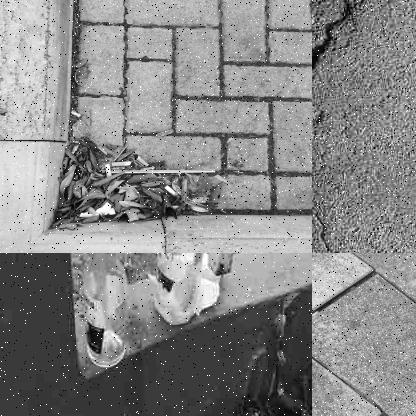glass: (82, 253, 132, 367), (158, 253, 212, 319)
plastic: (93, 163, 222, 179)
